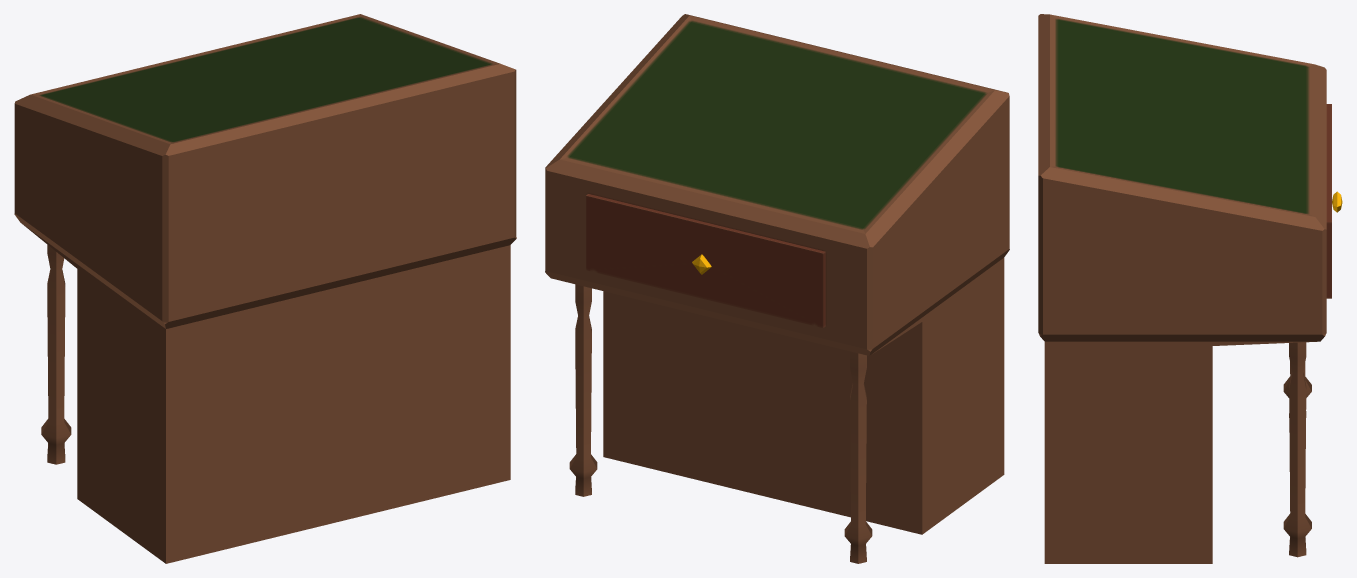
File: davenport.fbx
The picture shows the model from 3 angles, left to right: view 1: azimuth 30°, elevation 25°; view 2: azimuth 150°, elevation 25°; view 3: azimuth 270°, elevation 25°; orthographic projection. The views are drawn at different scales.
Visible parts, largest first — view 1: davenport_desk; view 2: davenport_desk; view 3: davenport_desk.
Part boxes in pixels (<box>): davenport_desk: <box>14,14,516,563</box>; davenport_desk: <box>545,14,1009,563</box>; davenport_desk: <box>1038,14,1342,563</box>.
Size of the model in its own units: 2.11 by 2.37 by 1.66.
Materials: 1 (1 with a texture image).
